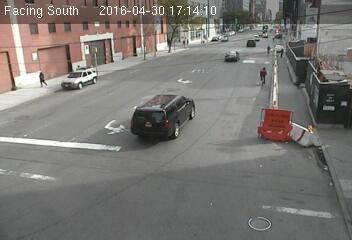neg: (203, 41, 241, 91), (224, 147, 256, 190), (43, 149, 71, 186), (164, 41, 188, 73), (293, 17, 314, 46), (155, 100, 176, 127), (119, 171, 139, 198), (95, 129, 115, 155), (268, 125, 286, 150), (117, 81, 134, 104), (304, 129, 321, 152), (174, 180, 191, 203), (49, 103, 66, 125), (257, 66, 273, 88), (86, 58, 101, 78), (303, 68, 318, 87)
pos: (35, 69, 49, 88)
